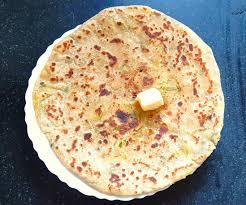paratha: (36, 5, 225, 195)
